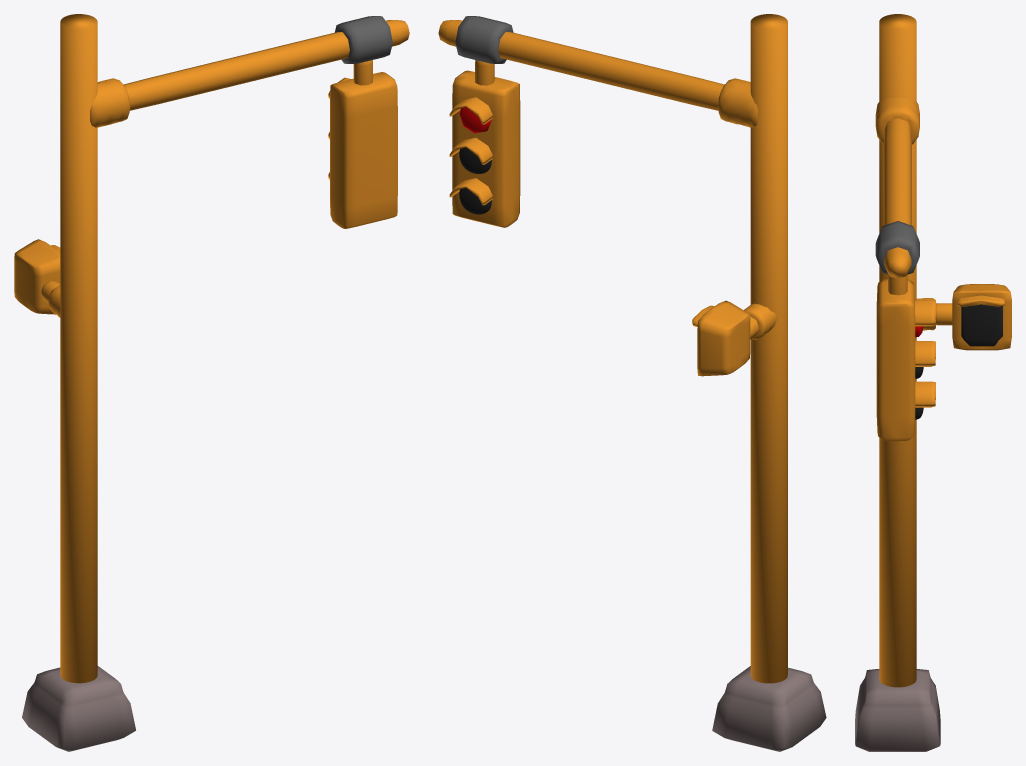
The model's file is semaforo2.fbx.
3 renders of one model, left to right at view 1: azimuth 30°, elevation 25°; view 2: azimuth 150°, elevation 25°; view 3: azimuth 270°, elevation 25°, orthographic.
Parts seen in each view (by area): view 1: Cylinder, Cube.005, Cube, Cube.002, Cube.014, Cube.003, Cube.001; view 2: Cylinder, Cube.005, Cube.002, Cube, Cube.014, Cube.003, Cube.010, Cube.001, Cube.012; view 3: Cylinder, Cube.005, Cube, Cube.002, Cube.014, Cube.010, Cube.015, Cube.003, Cube.001, Cube.016, Cube.013, Cube.004.
Part boxes in pixels (left/top/right/bottom): Cylinder: left=60, top=14, right=97, bottom=683; Cube.005: left=330, top=72, right=397, bottom=228; Cube: left=22, top=666, right=135, bottom=751; Cube.002: left=123, top=20, right=409, bottom=110; Cube.014: left=14, top=239, right=60, bottom=314; Cube.003: left=334, top=16, right=392, bottom=63; Cube.001: left=90, top=78, right=130, bottom=127; Cylinder: left=750, top=14, right=787, bottom=683; Cube.005: left=452, top=70, right=520, bottom=227; Cube.002: left=438, top=20, right=724, bottom=110; Cube: left=712, top=666, right=826, bottom=751; Cube.014: left=697, top=300, right=750, bottom=376; Cube.003: left=455, top=16, right=513, bottom=63; Cube.010: left=449, top=97, right=492, bottom=205; Cube.001: left=718, top=78, right=758, bottom=127; Cube.012: left=744, top=303, right=776, bottom=339; Cylinder: left=879, top=14, right=916, bottom=687; Cube.005: left=876, top=278, right=915, bottom=441; Cube: left=855, top=669, right=940, bottom=751; Cube.002: left=883, top=118, right=911, bottom=278; Cube.014: left=952, top=284, right=1011, bottom=350; Cube.010: left=915, top=300, right=935, bottom=407; Cube.015: left=961, top=304, right=1002, bottom=346; Cube.003: left=875, top=221, right=919, bottom=274; Cube.001: left=875, top=98, right=919, bottom=144; Cube.016: left=957, top=295, right=1004, bottom=306; Cube.013: left=936, top=303, right=952, bottom=325; Cube.004: left=888, top=275, right=907, bottom=295.
Bounding box in the file's own units: 1495 × 2797 × 554.
